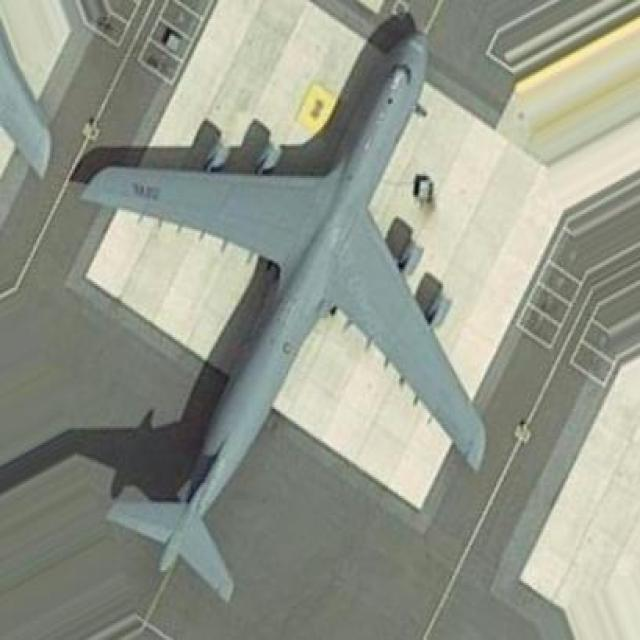C-5_TopDown: (66, 15, 489, 605)
